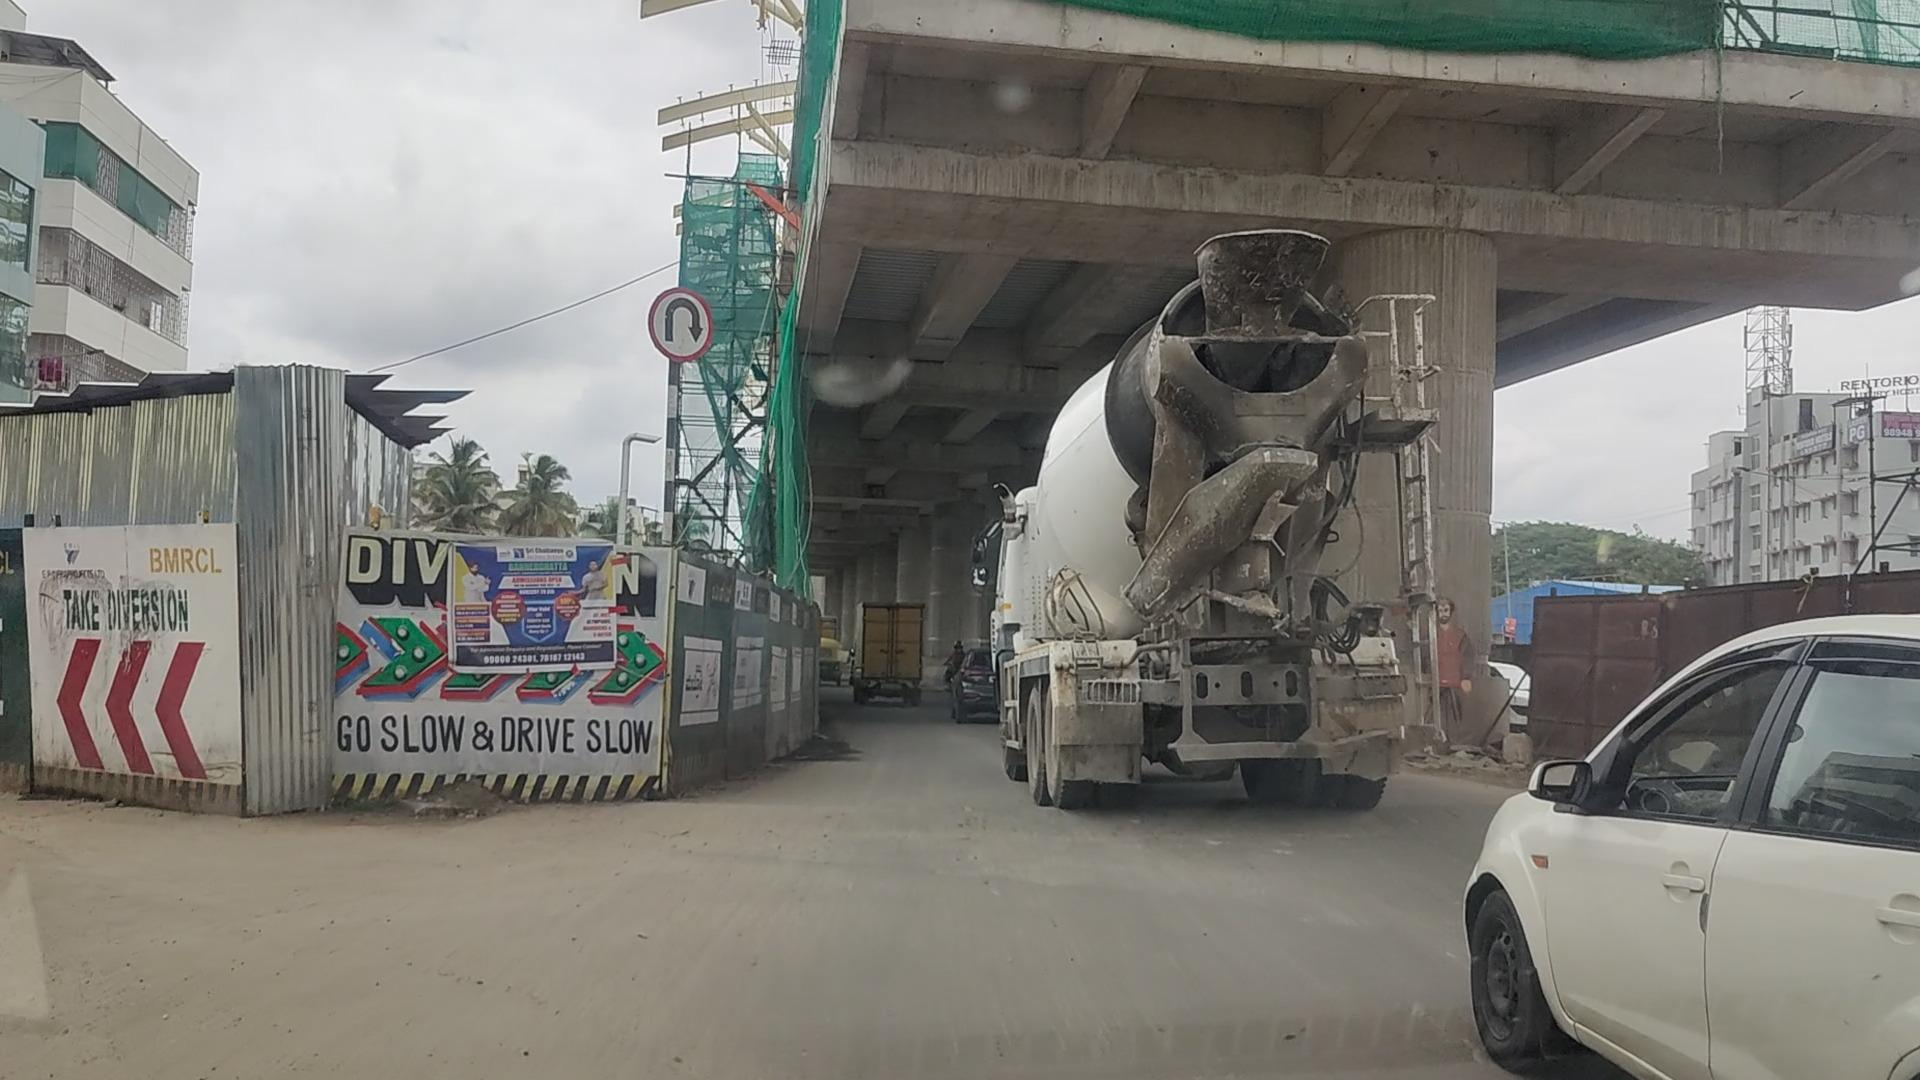HMV: (1000, 225, 1394, 798), (857, 600, 927, 707)
UnsurfacedRoad: (662, 779, 1510, 848)
